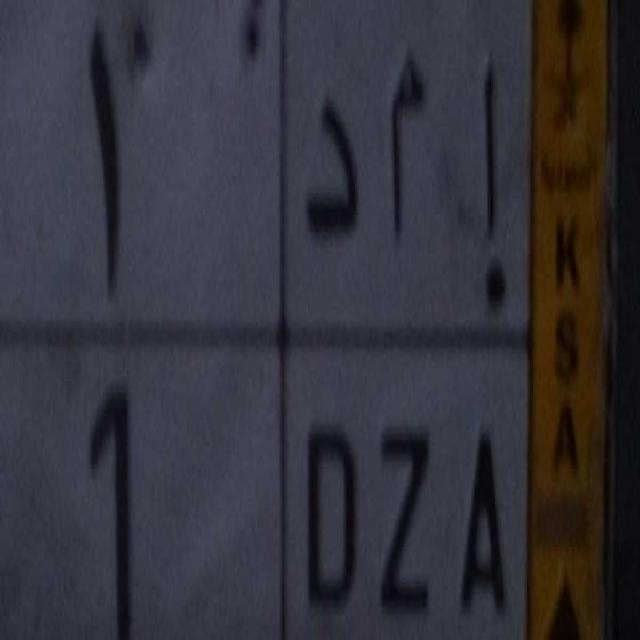license_plate: (0, 330, 526, 640)
